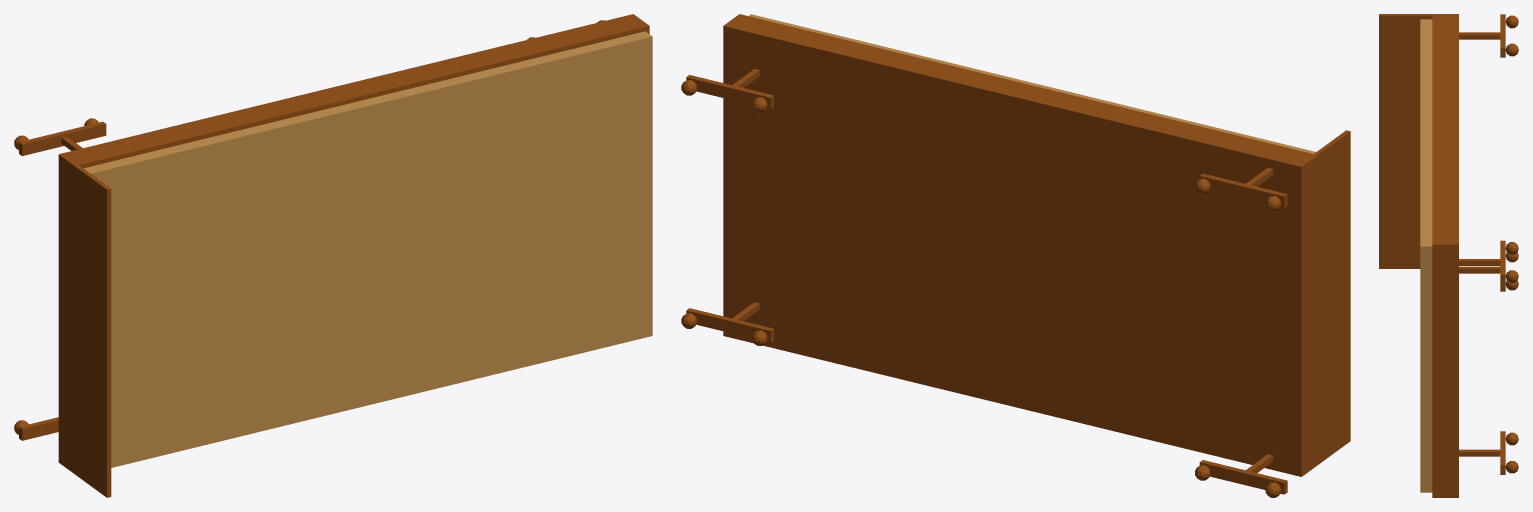
File: _room602-bed-bodyset2.glb
3 views of the same model, side by side, from view 1: azimuth 30°, elevation 25°; view 2: azimuth 150°, elevation 25°; view 3: azimuth 270°, elevation 25° (orthographic). The views are drawn at different scales.
Bounding box in the file's own units: 2.12 × 1.05 × 0.525.
